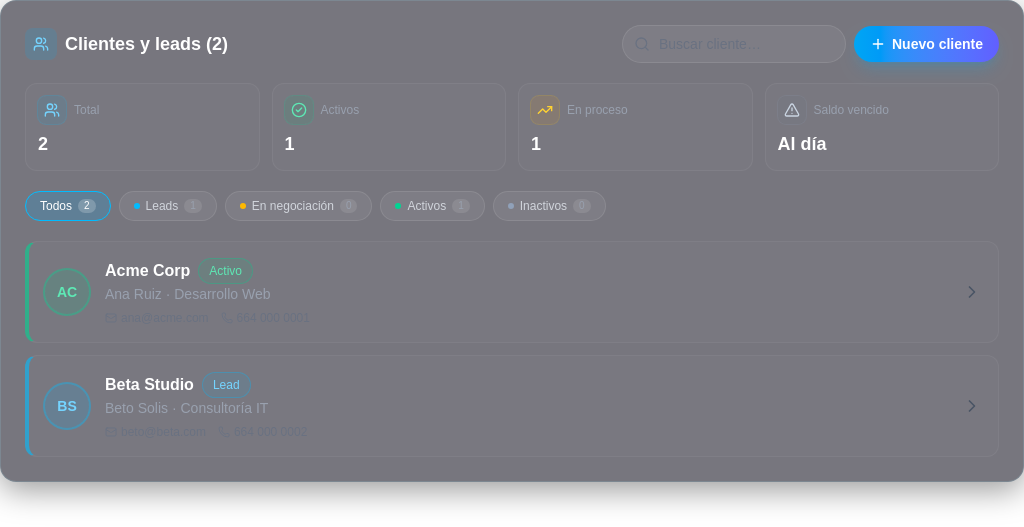
Scenario: ClientsSection › filters by search text across name and company
This screenshot has width=1024, height=527.
Type "acme" into the field with placeholder "Buscar cliente…" at [734, 44], box [622,25,846,63]
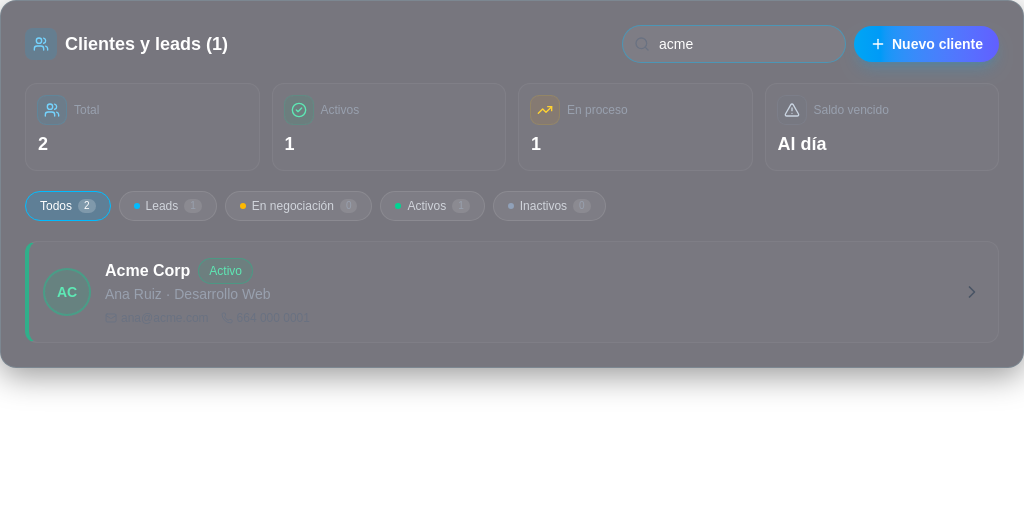
Expected: the text "Acme Corp" is shown, [105,259,190,283]
Expected: the button "Beta Studio" is gone
